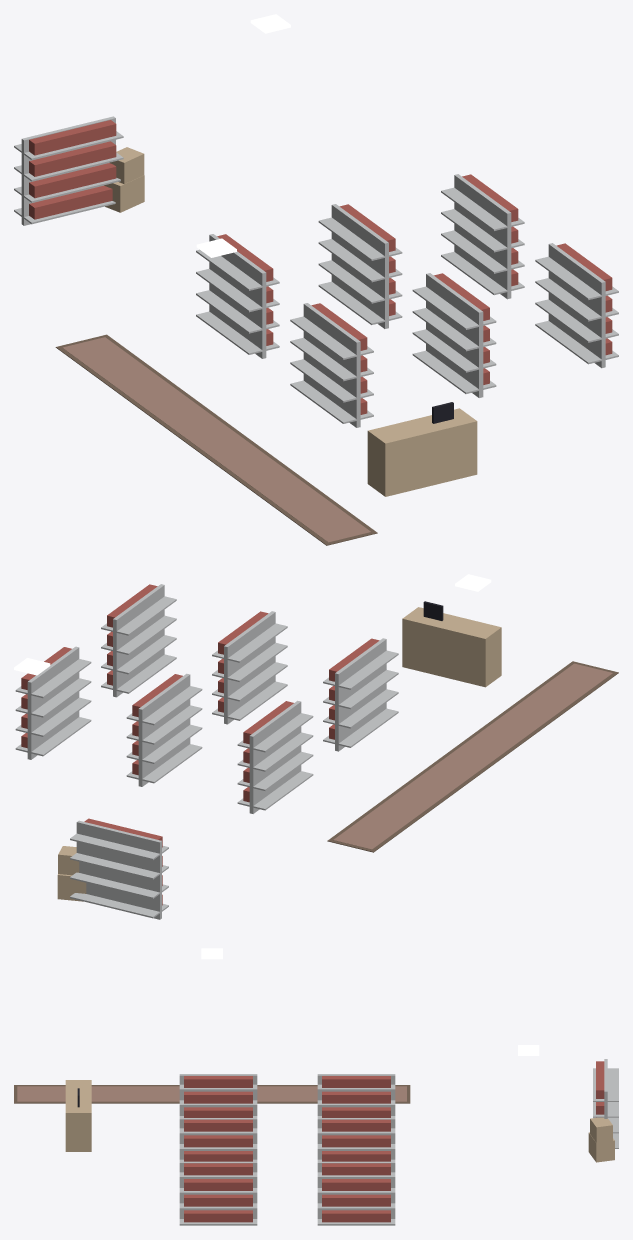
Rendered from fine-s0.glb.
3 views of the same model, one above another, from view 1: azimuth 30°, elevation 25°; view 2: azimuth 150°, elevation 25°; view 3: azimuth 270°, elevation 25° (orthographic). The views are drawn at different scales.
Parts seen in each view (by area): view 1: soft-s0, shelving.000, shop-counter.000, shelf.004, shelf.002, shelf.005, shelf.001, shelf.003, shelf.000, cardboard-box.000; view 2: soft-s0, shelving.000, shop-counter.000, shelf.000, shelf.002, shelf.003, shelf.005, shelf.001, shelf.004, cardboard-box.000; view 3: shelf.004, shelf.005, soft-s0, shelf.000, shelf.001, shelf.002, shelf.003, shop-counter.000, shelving.000, cardboard-box.000.
Boxes of the visible parts, <box> form: soft-s0: <box>55,334,377,545</box>; shelving.000: <box>14,116,123,225</box>; shop-counter.000: <box>367,402,477,496</box>; shelf.004: <box>441,174,524,299</box>; shelf.002: <box>318,204,402,328</box>; shelf.005: <box>535,243,618,368</box>; shelf.001: <box>290,303,373,427</box>; shelf.003: <box>412,273,496,397</box>; shelf.000: <box>196,234,279,358</box>; cardboard-box.000: <box>104,147,144,212</box>; soft-s0: <box>327,661,618,852</box>; shelving.000: <box>70,818,168,919</box>; shop-counter.000: <box>402,601,501,687</box>; shelf.000: <box>237,700,313,813</box>; shelf.002: <box>126,673,202,786</box>; shelf.003: <box>212,611,287,724</box>; shelf.005: <box>101,584,176,697</box>; shelf.001: <box>323,638,398,751</box>; shelf.004: <box>15,646,91,759</box>; cardboard-box.000: <box>57,846,86,901</box>; shelf.004: <box>317,1161,395,1225</box>; shelf.005: <box>179,1161,257,1225</box>; soft-s0: <box>14,1085,410,1103</box>; shelf.000: <box>317,1074,395,1117</box>; shelf.001: <box>179,1074,257,1117</box>; shelf.002: <box>317,1118,395,1161</box>; shelf.003: <box>179,1118,257,1161</box>; shop-counter.000: <box>65,1080,91,1151</box>; shelving.000: <box>593,1059,618,1148</box>; cardboard-box.000: <box>588,1117,614,1162</box>.
Bounding box in the file's own units: 7.94 × 3.63 × 14.03.
